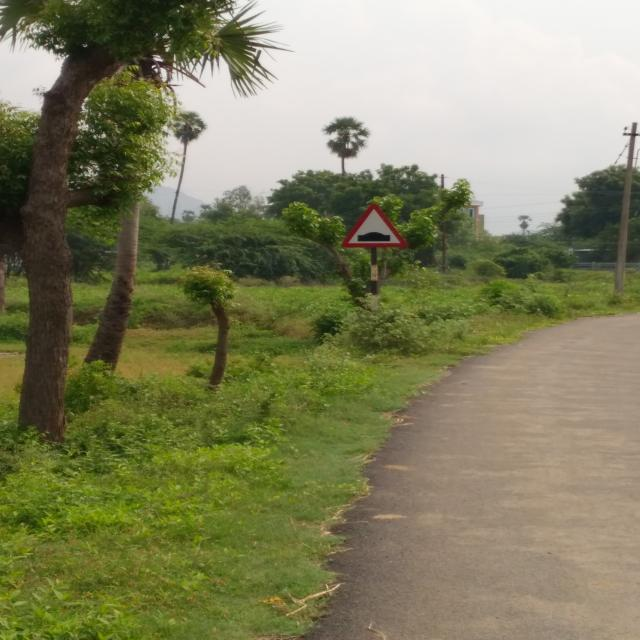hump or rough road: (339, 203, 407, 248)
